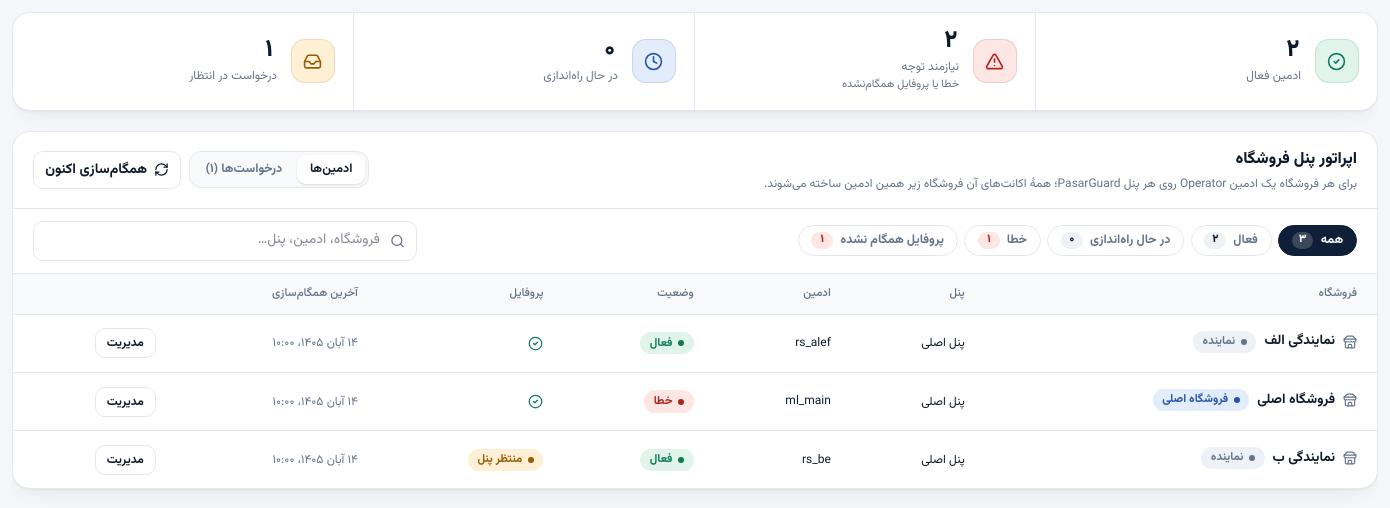
Test case: admin: PasarGuard admins of every store › filters by status and searches by store, admin or panel
This screenshot has width=1390, height=508.
Expected: the text "rs_alef" is shown, [795,334,831,352]
Click the button "خطا ۱". click: [1003, 241]
box: [964,225,1041,256]
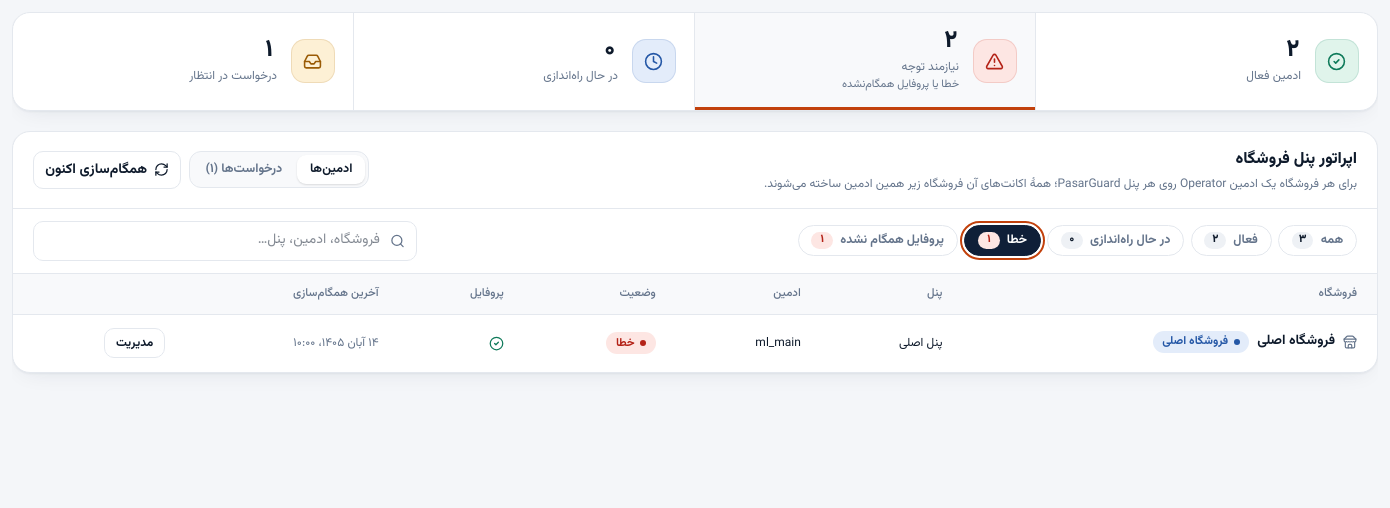
Expected: the text "ml_main" is shown, [755,334,801,352]
Now the text "rs_alef" is gone
Click the button "همه ۳". click: [1318, 241]
box: [1278,225,1357,256]
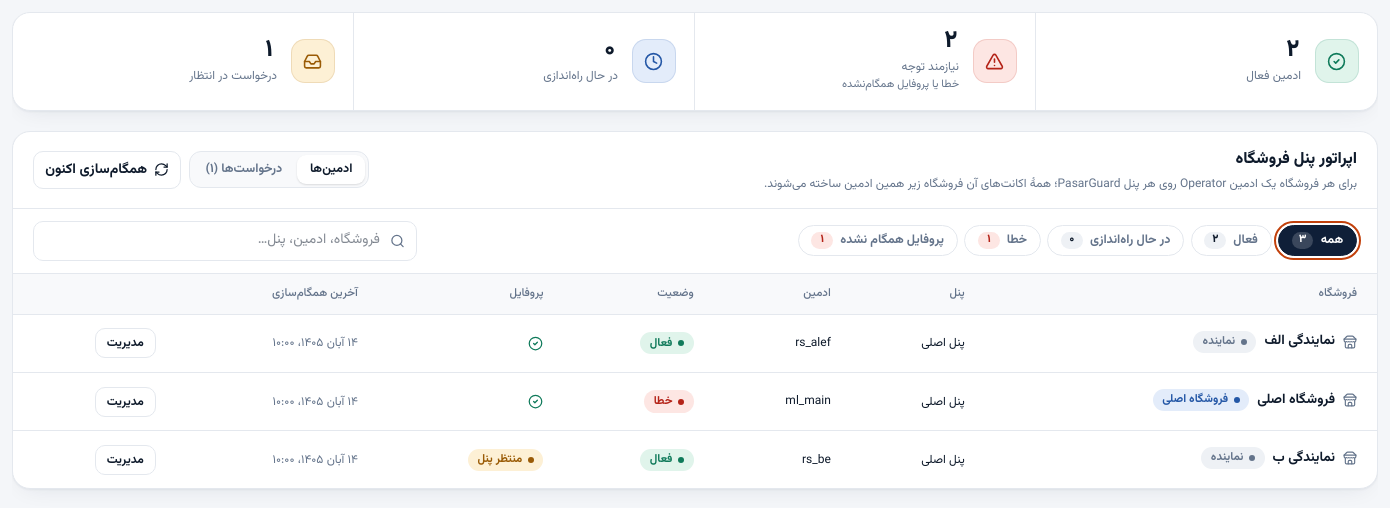
Type "rs_be" into the field named "جستجو در ادمین‌ها". click: [225, 241]
box: [33,220,417,261]
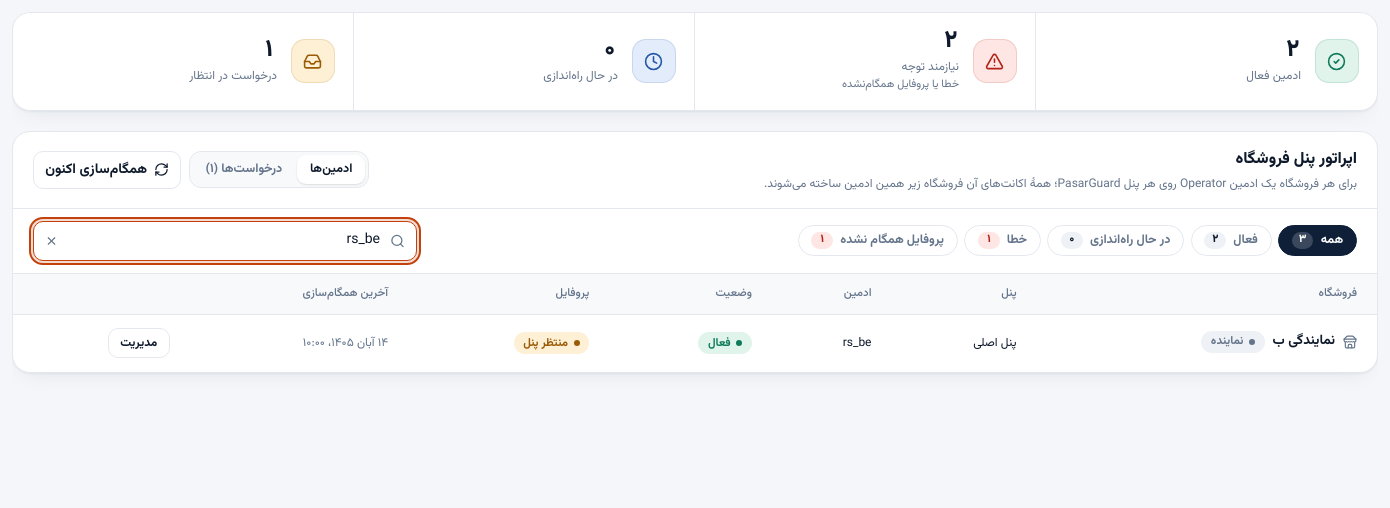
Now the text "rs_be" is shown, box [843,334,872,352]
Now the text "rs_alef" is gone
